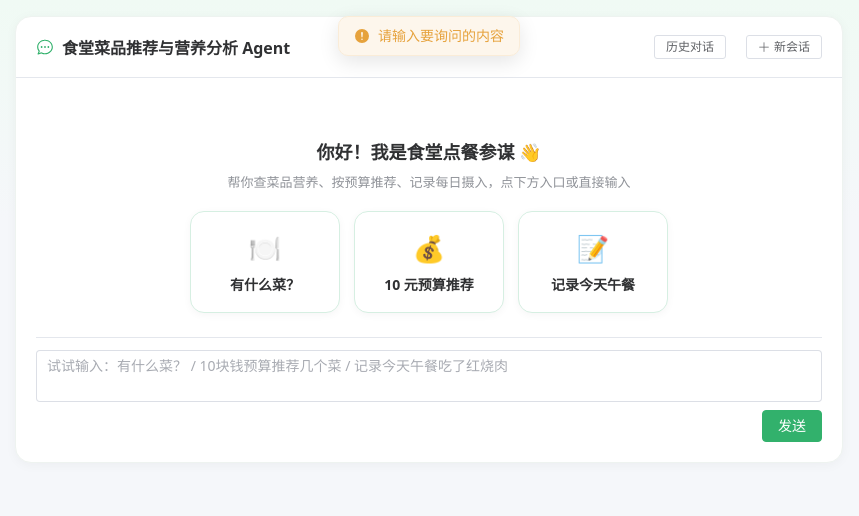
Test: ChatView › 流式输出逐字渲染回复
The width and height of the screenshot is (859, 516).
Type "推荐清淡的菜" into the text box with placeholder "试试输入：有什么菜？ / 10块钱预算推荐几个菜 / 记录今天午餐吃了红烧肉".
click(429, 376); type("推荐清淡的菜")  # box [36, 350, 822, 402]
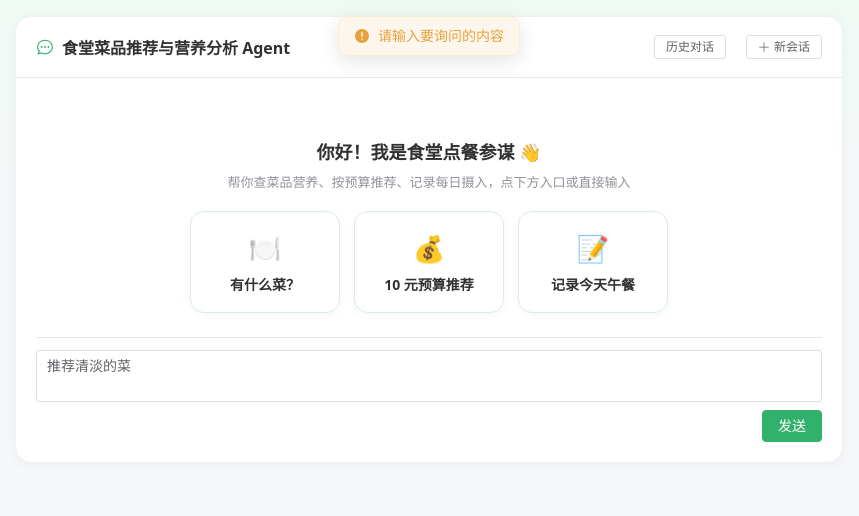
Click the button "发送".
click(792, 426)  # box [762, 410, 822, 442]
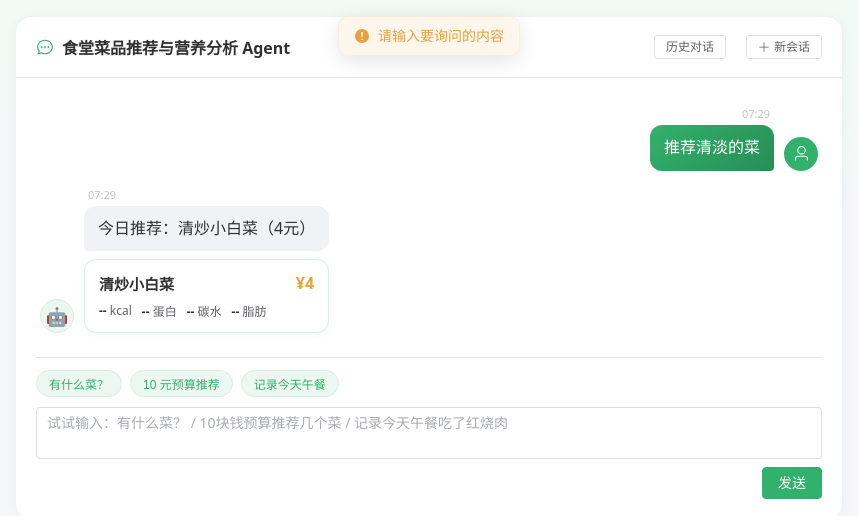
expect the text with class "chat-bubble" reads "推荐清淡的菜": met, box [664, 136, 760, 158]
expect the text with class "chat-bubble" reads "今日推荐：清炒小白菜（4元）": met, box [98, 217, 315, 239]
